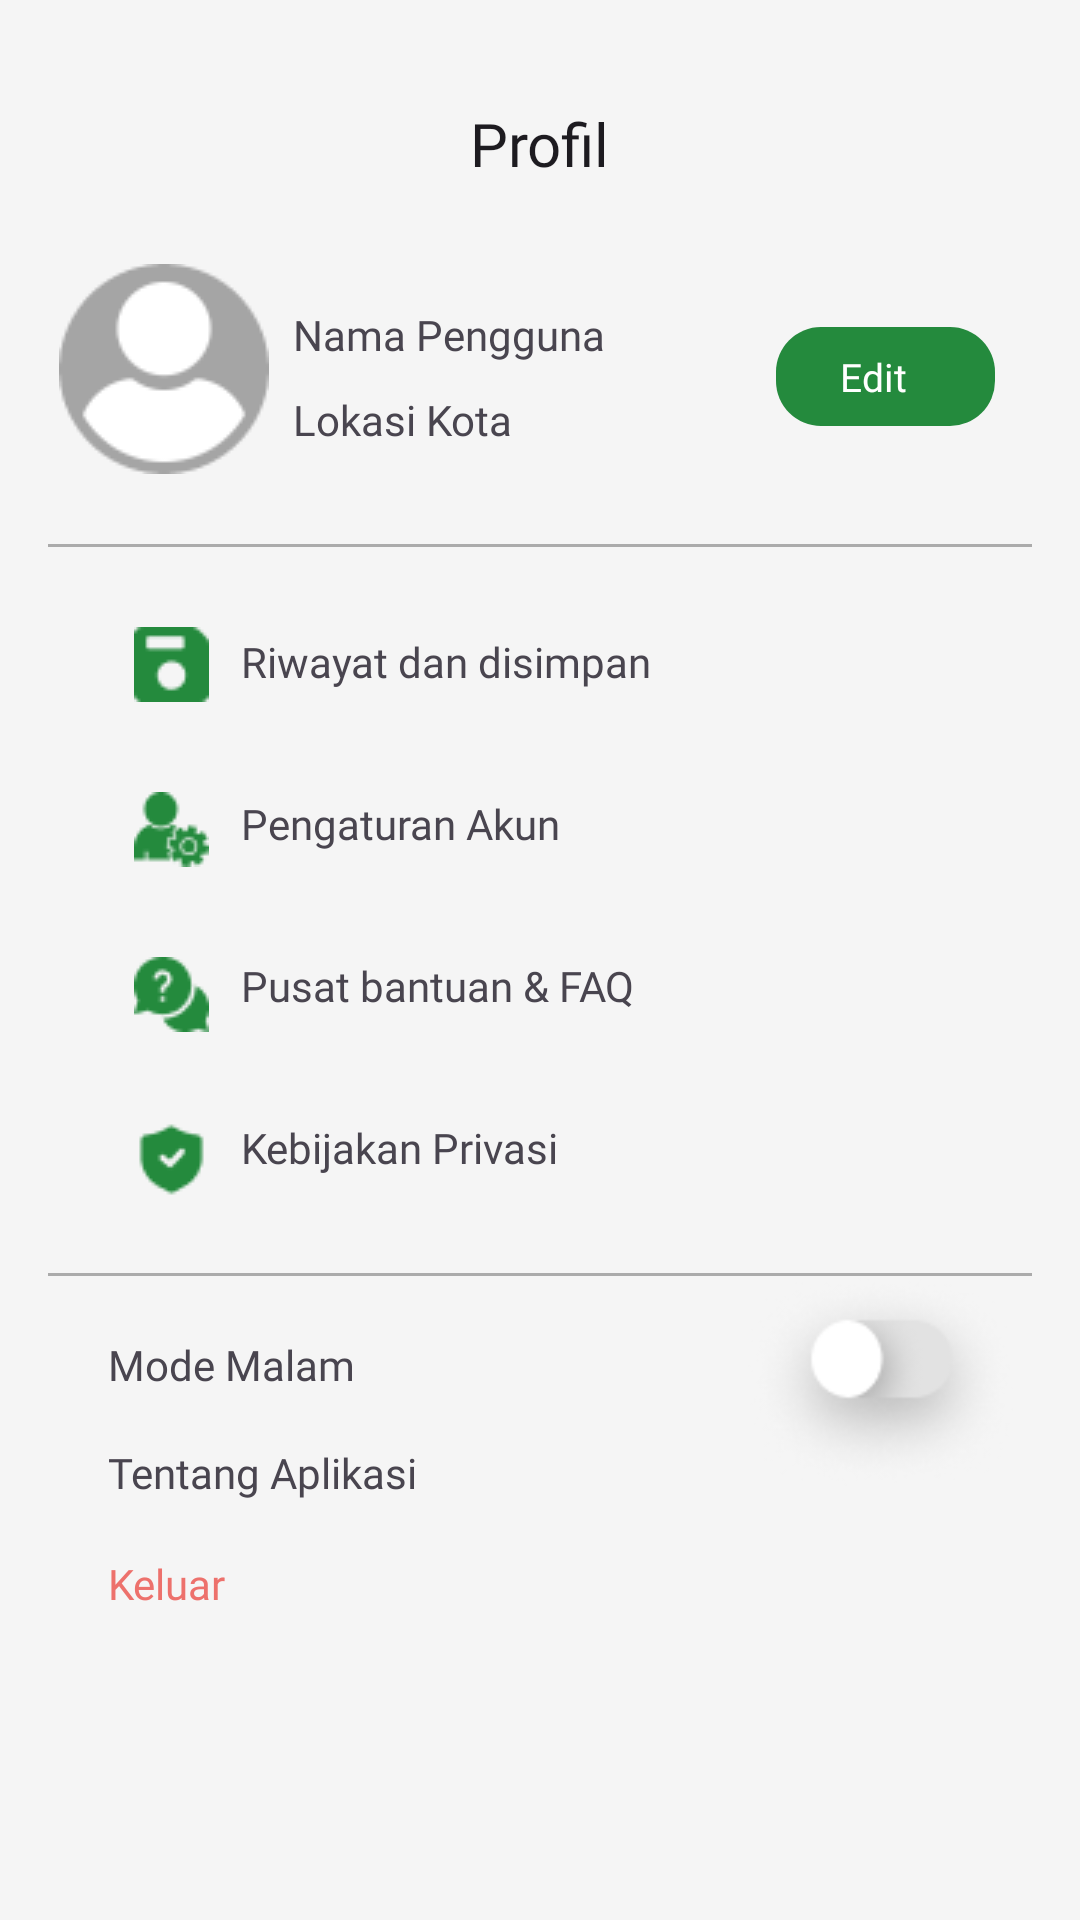

Point at icon controls on the screen. Image size 1080x1920, points as (x=x, y=y).
foto profil: (x=164, y=369)
help: (x=171, y=994)
save riwayat: (x=171, y=664)
setting acc: (x=171, y=829)
switch: (x=881, y=1381)
